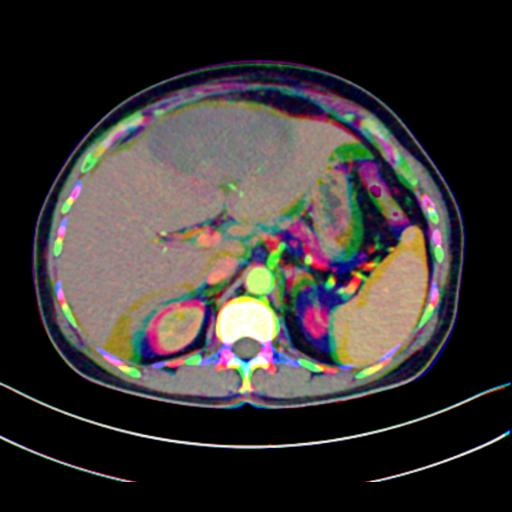Abscess: (145, 104, 293, 185)
